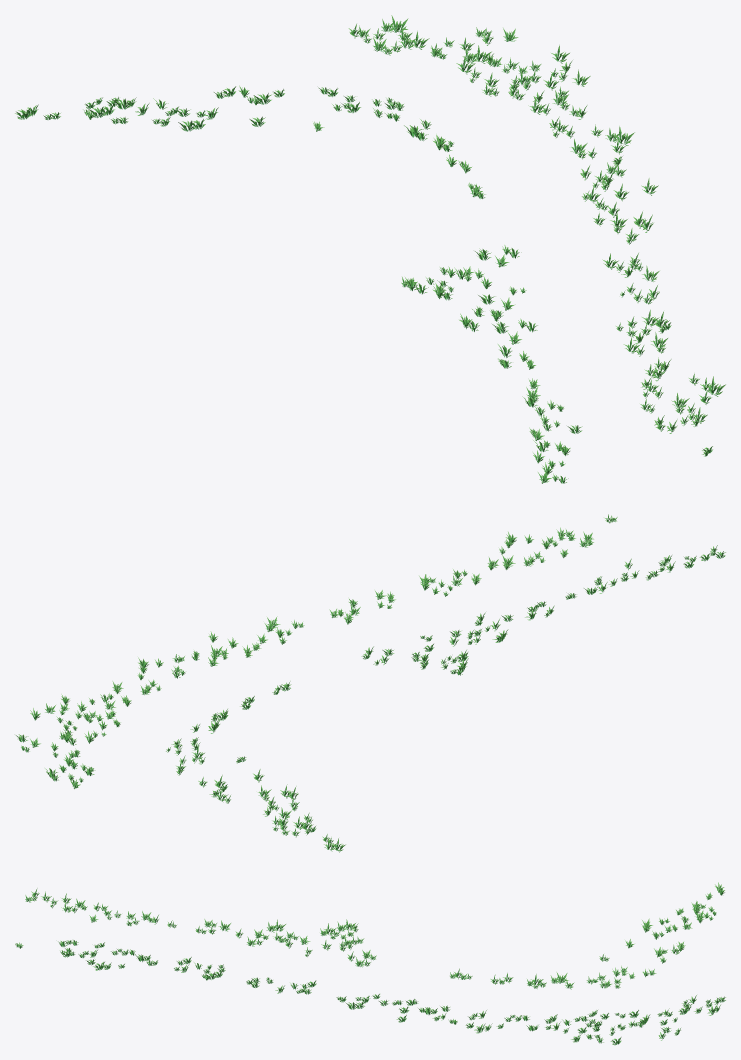
The model's file is Area_08_18.fbx.
3 renders of one model, top to bottom at view 1: azimuth 30°, elevation 25°; view 2: azimuth 150°, elevation 25°; view 3: azimuth 270°, elevation 25°, orthographic. The views are drawn at different scales.
Visible parts, largest first — view 1: Area_08_18; view 2: Area_08_18; view 3: Area_08_18.
Boxes of the visible parts, x1,y1,x2,y2 form: Area_08_18: [15, 15, 725, 483]; Area_08_18: [16, 514, 725, 852]; Area_08_18: [15, 882, 725, 1045].
Size of the model in its own units: 3671 by 120 by 6985.
